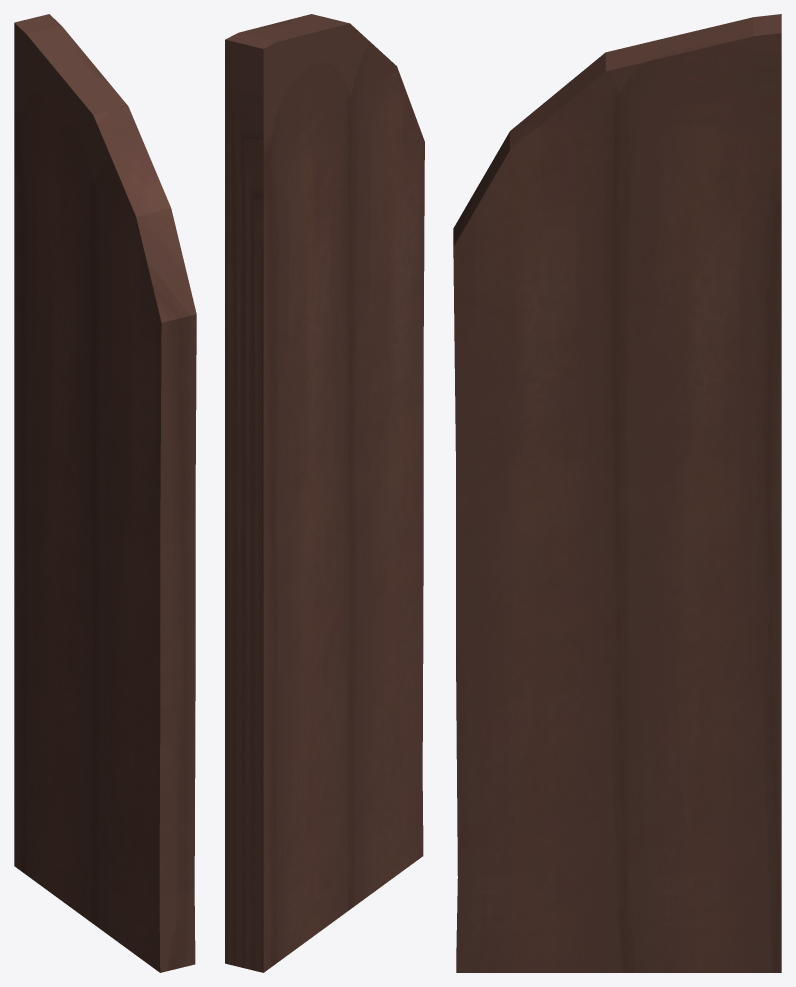
File: haff dor.fbx
3 renders of one model, left to right at view 1: azimuth 30°, elevation 25°; view 2: azimuth 150°, elevation 25°; view 3: azimuth 270°, elevation 25°, orthographic. The views are drawn at different scales.
Visible parts, largest first — view 1: pPlane2; view 2: pPlane2; view 3: pPlane2.
Boxes of the visible parts, box(x1,y1,x2,y2) form: pPlane2: box(14, 14, 196, 972); pPlane2: box(225, 14, 424, 972); pPlane2: box(453, 14, 781, 972).
Bounding box in the file's own units: 0.3152 × 7.22 × 2.29.
